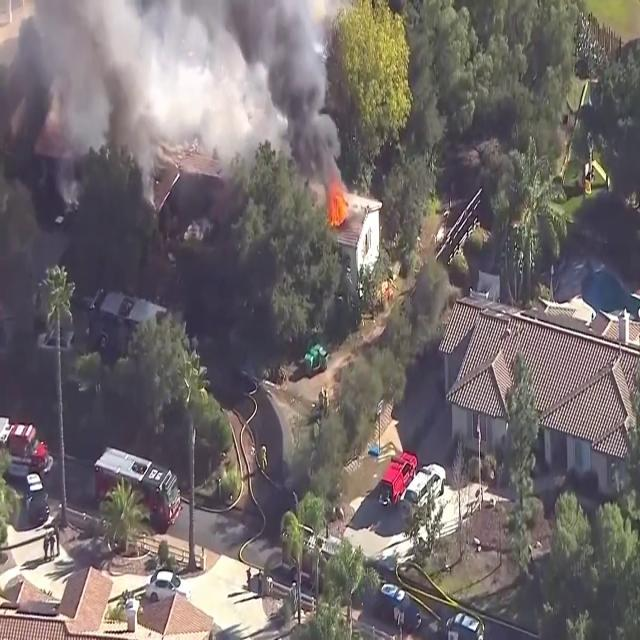Fire: (327, 173, 352, 230)
Smoke: (24, 0, 348, 193)
